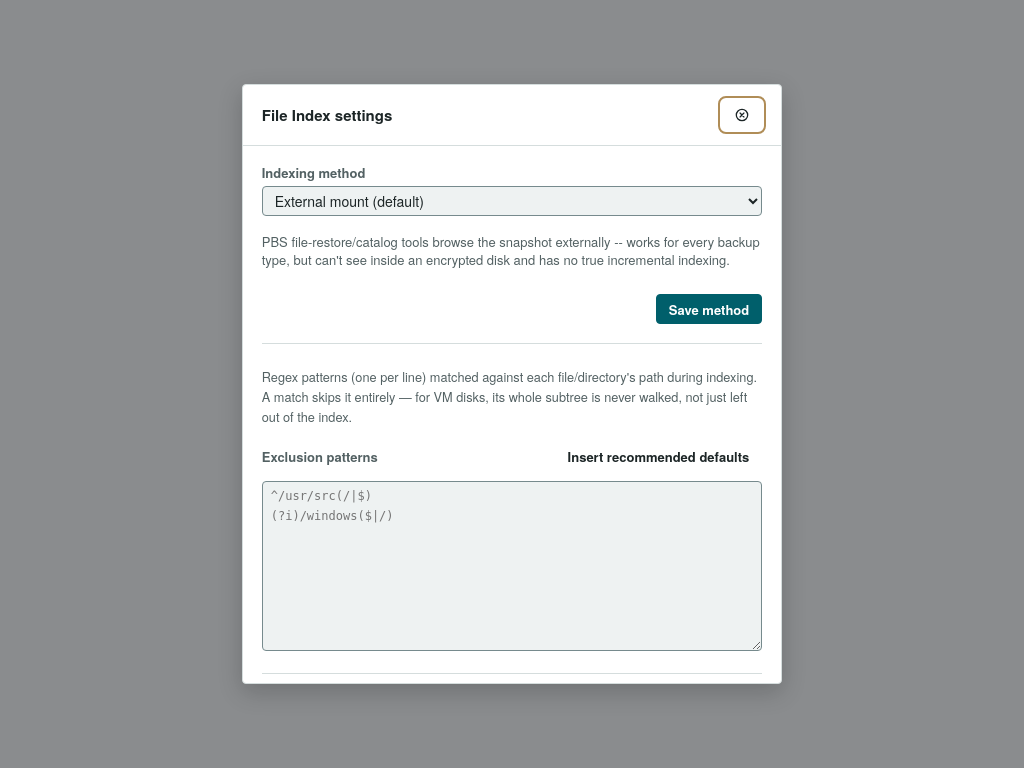
Test: FileIndexExcludePatternsModal › shows the cluster picker only once guest_exec_live is selected, and requires a choice
Expected: the field labelled "Guest-exec lab cluster" is not shown
Select "Guest-exec (live)" in the dropdown labelled "Indexing method" at (512, 202), box [262, 186, 762, 216]
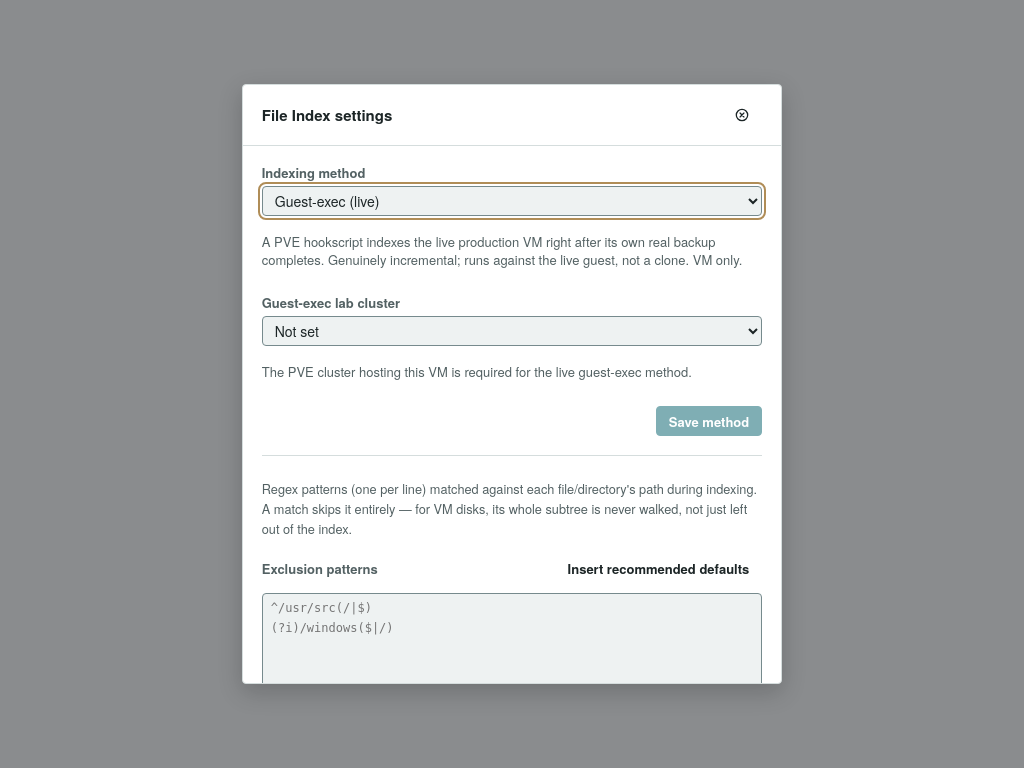
Expected: the button "Save method" is disabled, [656, 406, 762, 436]
Select "Prod PVE" in the dropdown labelled "Guest-exec lab cluster" at (512, 332), box [262, 316, 762, 346]
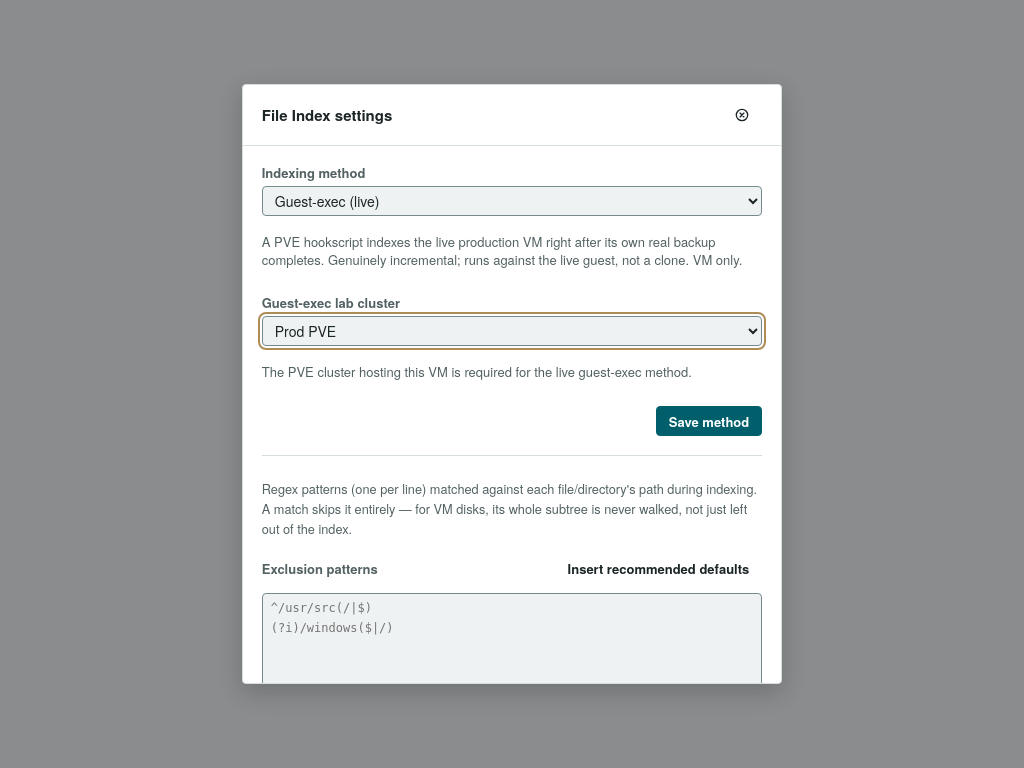
Expected: the button "Save method" is enabled, [656, 406, 762, 436]
